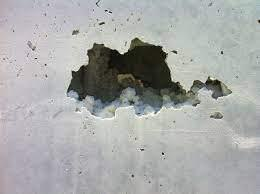Spalling: (65, 37, 233, 120)
